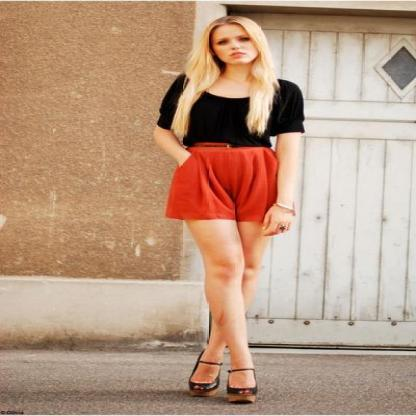shirt: (160, 74, 304, 148)
shoe: (183, 374, 256, 405)
skirt: (165, 142, 279, 230)
